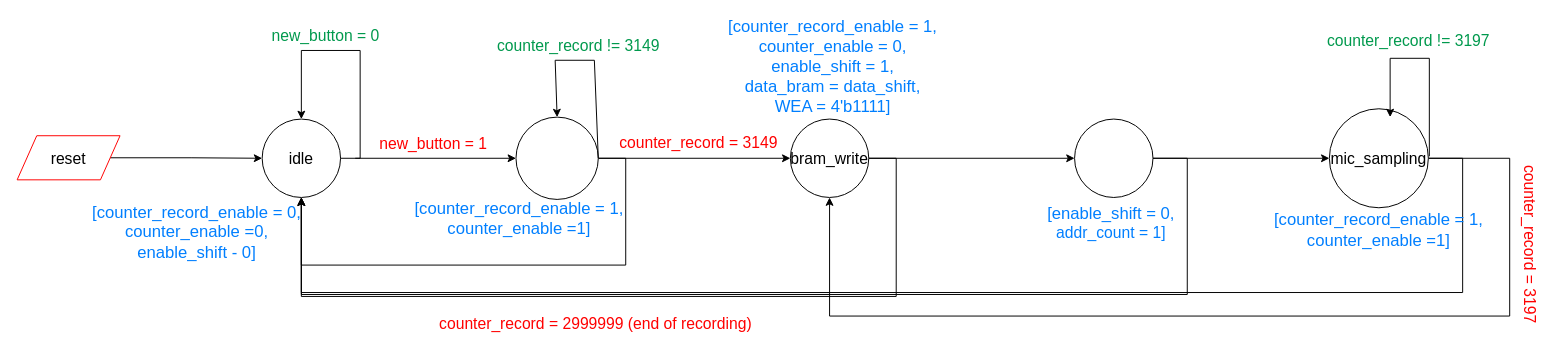
Image size: 1562x355. Some labels were removed from this diagram. The box of each missing label's shape, as (x1, y1, x2, y2) in pixels:
mic_enable: (515, 116, 598, 199)
register reset: (1074, 118, 1153, 197)
